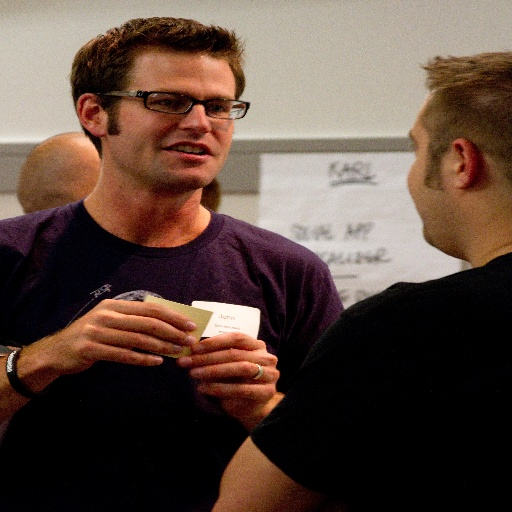hand: (44, 298, 196, 376), (161, 328, 282, 416)
